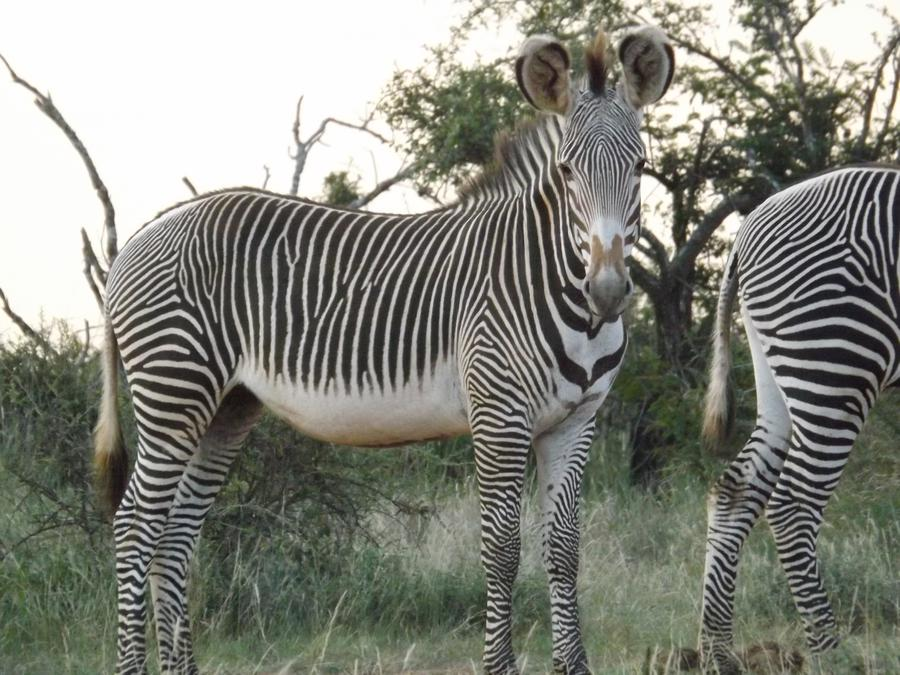zebra_grevys: (111, 166, 559, 429)
